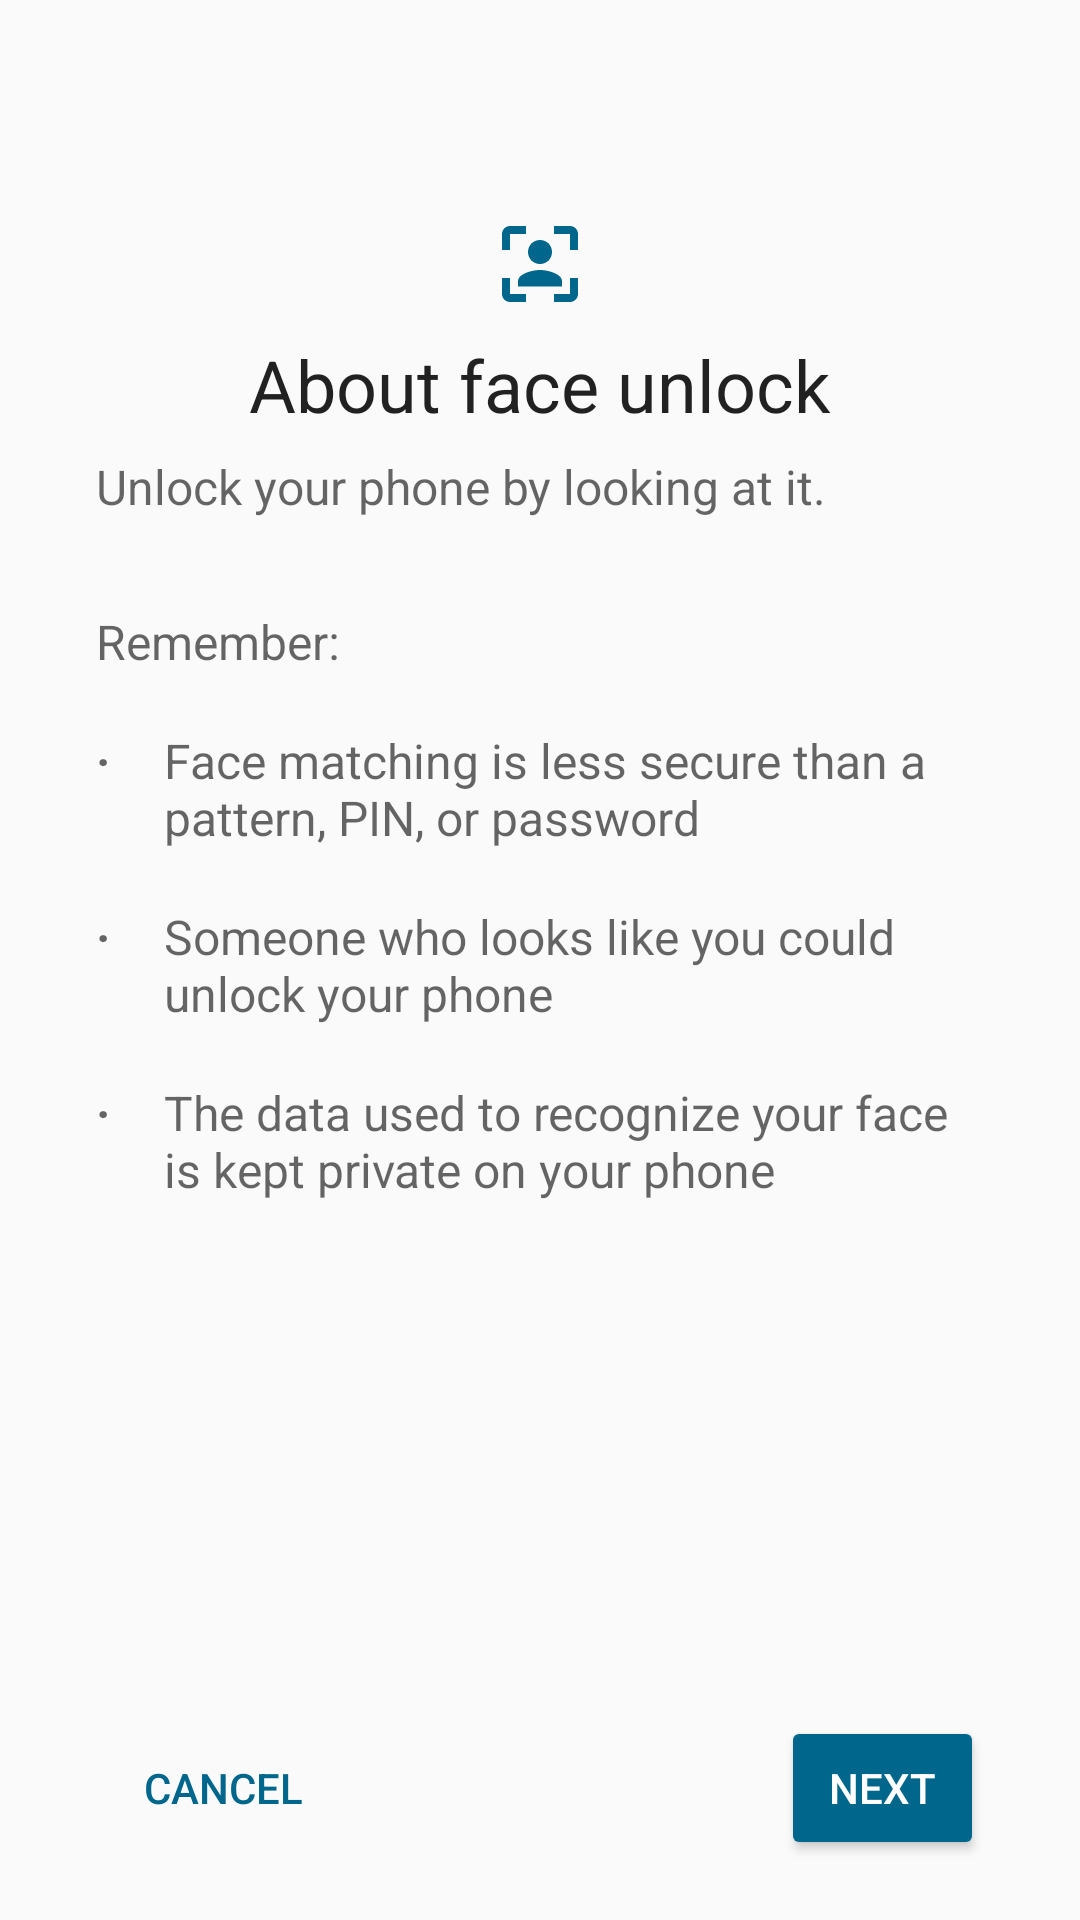

Icons on this 1080 x 1920 Android screen, each with the point to tap as (x=x, y=y):
face auth: (x=540, y=264)
